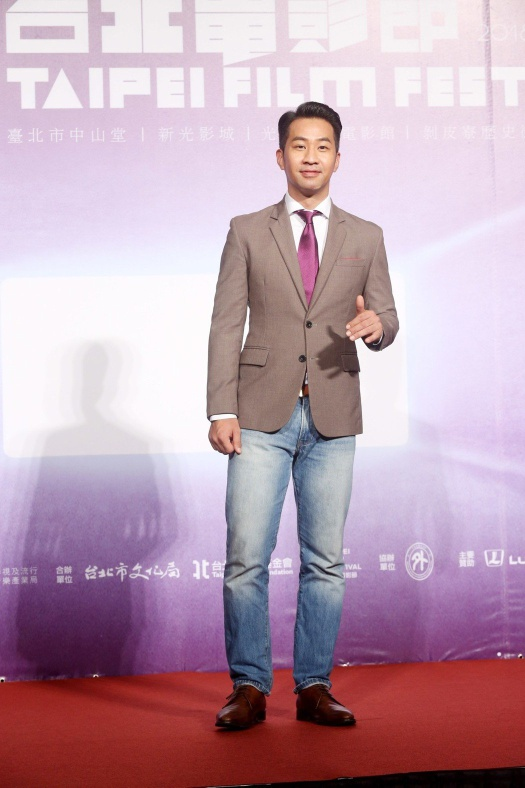male: (267, 96, 349, 199)
